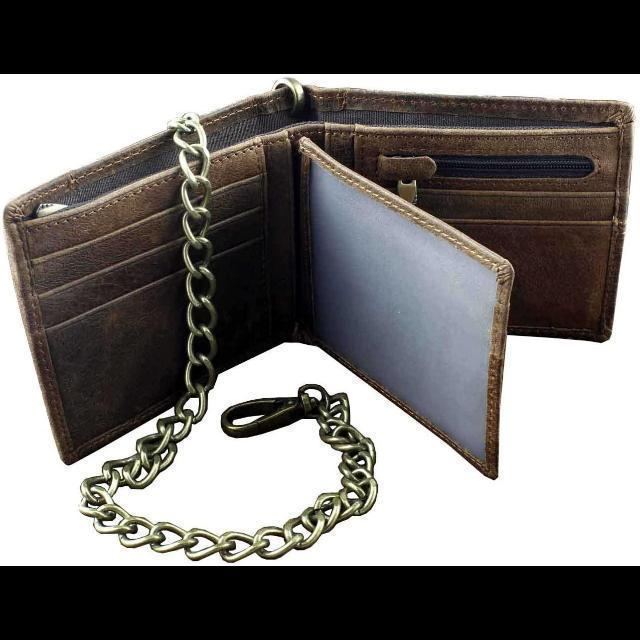wallet: (4, 79, 636, 484)
